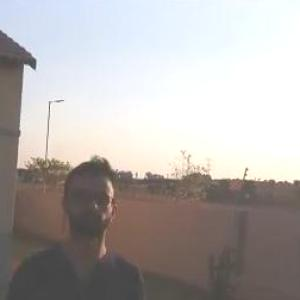follow: (0, 156, 156, 299)
